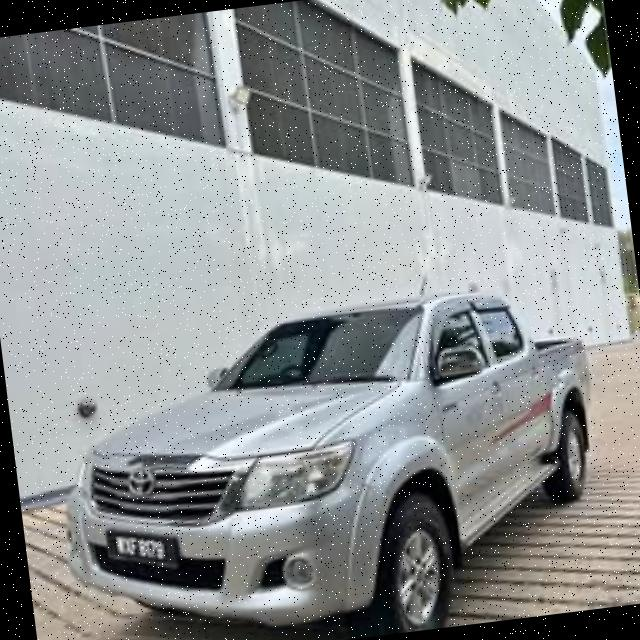License_Plate: (104, 521, 182, 579)
car: (38, 275, 618, 640)
